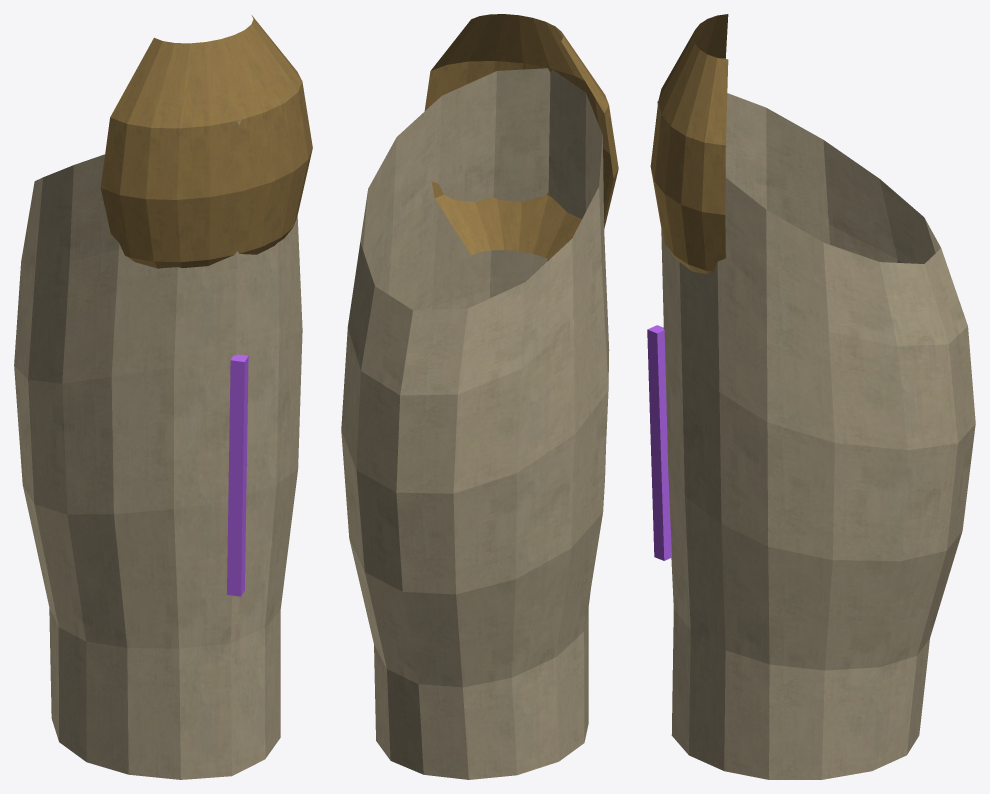
The model's file is eq_future_3_leg.glb.
3 views of the same model, side by side, from view 1: azimuth 30°, elevation 25°; view 2: azimuth 150°, elevation 25°; view 3: azimuth 270°, elevation 25° (orthographic). The views are drawn at different scales.
Visible parts, largest first — view 1: eq_future_3_leg; view 2: eq_future_3_leg; view 3: eq_future_3_leg.
Part boxes in pixels (x1=…): eq_future_3_leg: x1=14, y1=15, x2=312, y2=779; eq_future_3_leg: x1=341, y1=14, x2=618, y2=779; eq_future_3_leg: x1=647, y1=14, x2=975, y2=779.
Bounding box in the file's own units: 0.1598 × 0.4644 × 0.1978.
3 materials, 3 textured.
